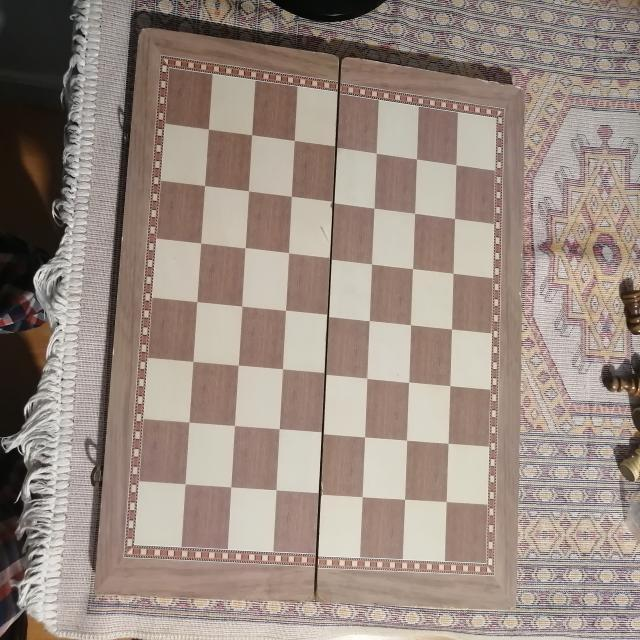corners: (499, 594, 526, 616), (84, 577, 103, 605), (132, 24, 152, 47), (518, 80, 534, 101)
